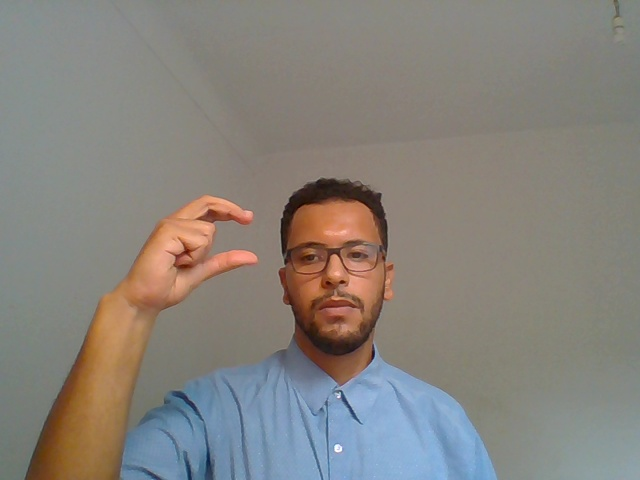no: (60, 163, 262, 440)
